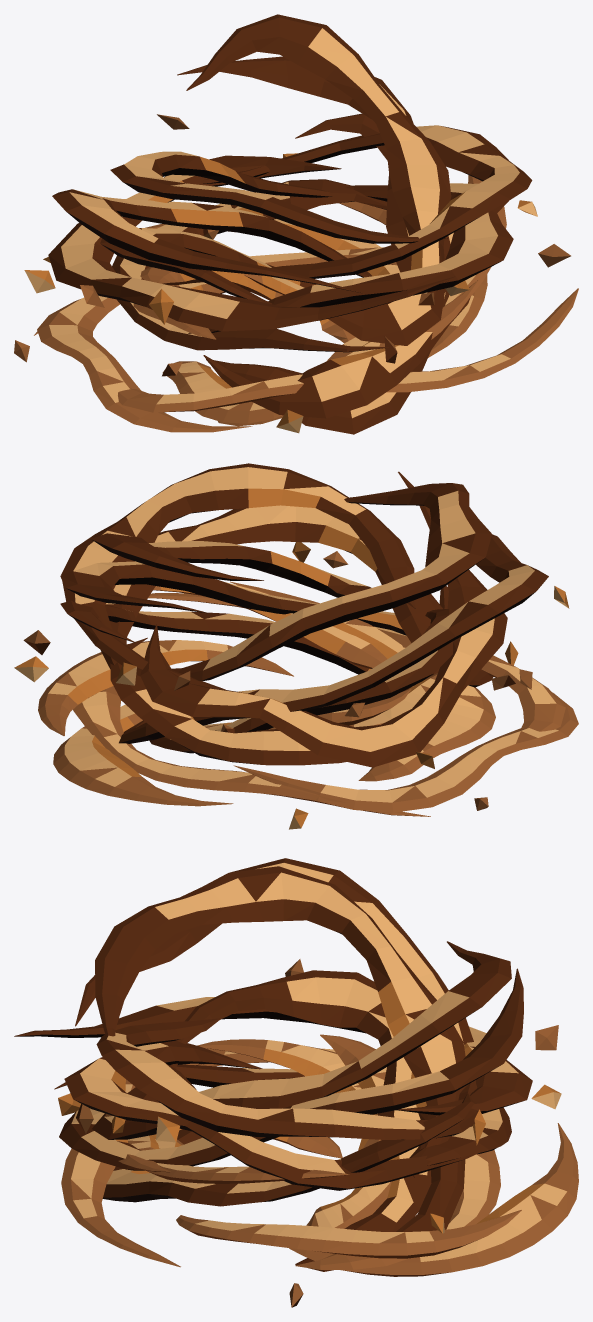
Rendered from Dust_Dash.fbx.
3 views of the same model, one above another, from view 1: azimuth 30°, elevation 25°; view 2: azimuth 150°, elevation 25°; view 3: azimuth 270°, elevation 25° (orthographic). The views are drawn at different scales.
Parts seen in each view (by area): view 1: Rolling_Sand_10, DUST_IMPACT, Rolling_Sand_7, Rolling_Sand_6, Rolling_Sand_5, Rolling_Sand_8, Rolling_Sand_9, Rolling_Sand_4, Ground_Plume_3, Rolling_Sand_3, Ground_Plume_2, Rolling_Sand_2 (+2 smaller); view 2: DUST_IMPACT, Rolling_Sand_7, Rolling_Sand_8, Rolling_Sand_9, Rolling_Sand_5, Rolling_Sand_4, Ground_Plume_2, Rolling_Sand_6, Rolling_Sand_3, Rolling_Sand_10, Ground_Plume_1, Rolling_Sand_2 (+2 smaller); view 3: DUST_IMPACT, Rolling_Sand_9, Rolling_Sand_8, Rolling_Sand_1, Rolling_Sand_4, Rolling_Sand_6, Rolling_Sand_10, Rolling_Sand_5, Rolling_Sand_2, Rolling_Sand_7, Rolling_Sand_3, Ground_Plume_3 (+1 smaller).
Boxes of the visible parts, box(x1,y1,x2,y2) form: Rolling_Sand_10: box(186, 14, 451, 345); DUST_IMPACT: box(24, 114, 570, 433); Rolling_Sand_7: box(48, 155, 455, 331); Rolling_Sand_6: box(177, 56, 450, 418); Rolling_Sand_5: box(52, 189, 372, 293); Rolling_Sand_8: box(201, 125, 532, 278); Rolling_Sand_9: box(110, 151, 447, 243); Rolling_Sand_4: box(188, 183, 513, 333); Ground_Plume_3: box(118, 288, 578, 412); Rolling_Sand_3: box(112, 179, 389, 352); Ground_Plume_2: box(37, 295, 252, 432); Rolling_Sand_2: box(206, 113, 470, 434); DUST_IMPACT: box(14, 542, 569, 829); Rolling_Sand_7: box(140, 471, 507, 767); Rolling_Sand_8: box(61, 463, 415, 690); Rolling_Sand_9: box(171, 483, 491, 680); Rolling_Sand_5: box(119, 534, 548, 743); Rolling_Sand_4: box(100, 505, 442, 676); Ground_Plume_2: box(233, 692, 578, 812); Rolling_Sand_6: box(60, 561, 493, 687); Rolling_Sand_3: box(110, 586, 448, 765); Rolling_Sand_10: box(91, 533, 371, 597); Ground_Plume_1: box(73, 686, 430, 816); Rolling_Sand_2: box(60, 600, 370, 674); DUST_IMPACT: box(58, 959, 578, 1307); Rolling_Sand_9: box(95, 866, 467, 1177); Rolling_Sand_8: box(96, 1018, 481, 1139); Rolling_Sand_1: box(176, 970, 431, 1271); Rolling_Sand_4: box(64, 1040, 478, 1190); Rolling_Sand_6: box(59, 968, 523, 1170); Rolling_Sand_10: box(92, 941, 511, 1139); Rolling_Sand_5: box(75, 858, 473, 1231); Rolling_Sand_2: box(102, 1093, 474, 1206); Rolling_Sand_7: box(14, 997, 532, 1115); Rolling_Sand_3: box(54, 1064, 511, 1165); Ground_Plume_3: box(61, 1048, 225, 1267).
Size of the model in its own units: 516 by 248 by 460.
